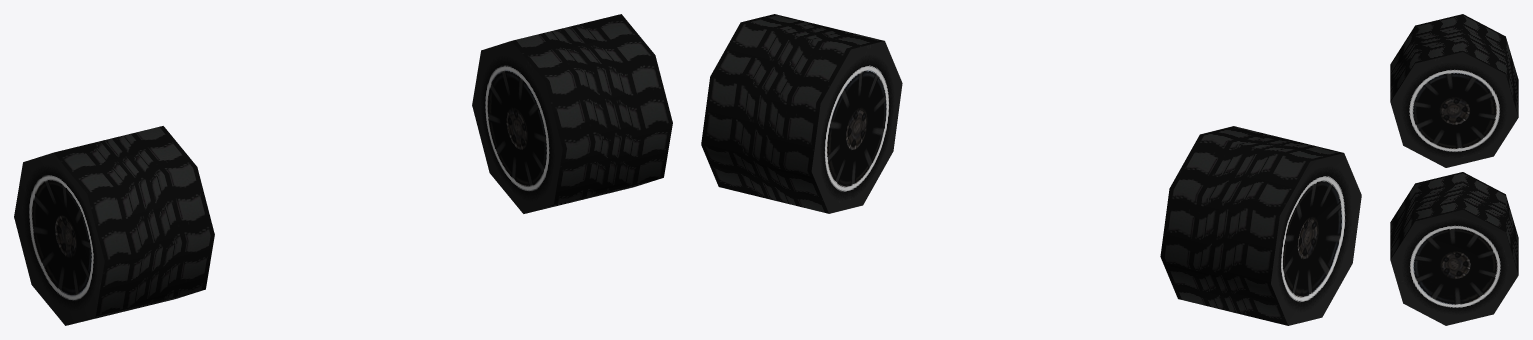
The model's file is car_01_rear_wheels.glb.
3 renders of one model, left to right at view 1: azimuth 30°, elevation 25°; view 2: azimuth 150°, elevation 25°; view 3: azimuth 270°, elevation 25°, orthographic. The views are drawn at different scales.
Parts seen in each view (by area): view 1: wheels_back; view 2: wheels_back; view 3: wheels_back.
Boxes of the visible parts, x1,y1,x2,y2 form: wheels_back: (14, 14, 672, 325); wheels_back: (701, 14, 1361, 325); wheels_back: (1390, 14, 1518, 325).
Bounding box in the file's own units: 0.5916 × 0.1637 × 0.1637.
1 material, 1 textured.
